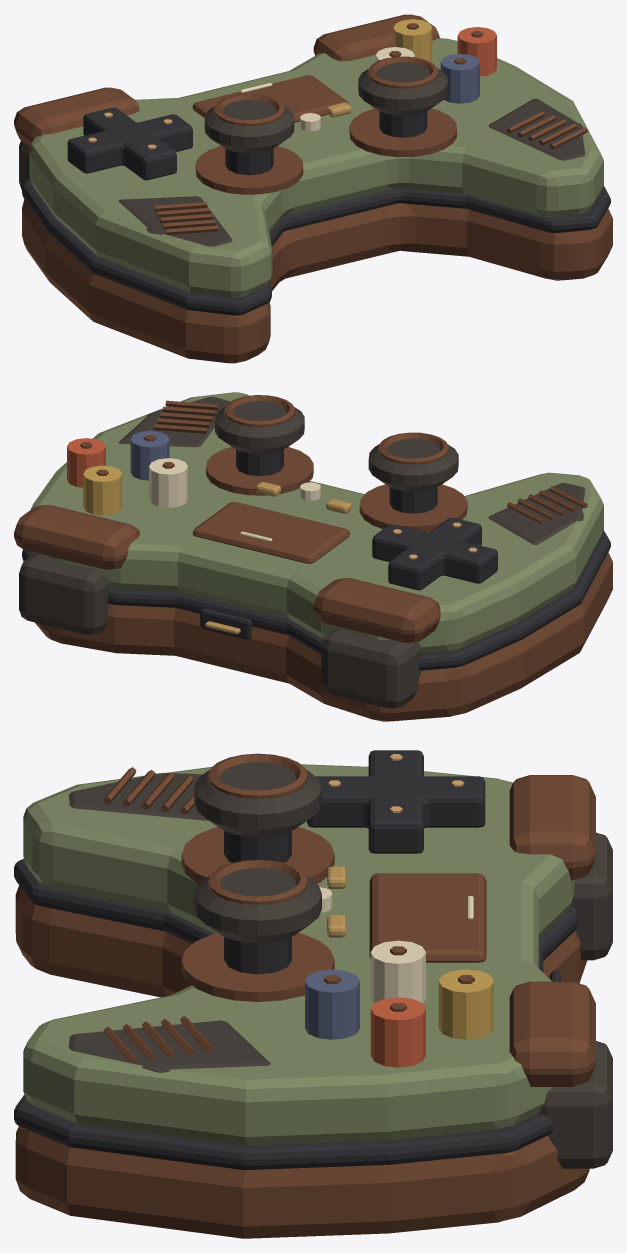
File: 012_game_controller_v01.glb
The picture shows the model from 3 angles, top to bottom: view 1: azimuth 30°, elevation 25°; view 2: azimuth 150°, elevation 25°; view 3: azimuth 270°, elevation 25°; orthographic projection. The views are drawn at different scales.
Parts seen in each view (by area): view 1: Sage controller top shell, Ergonomic lower controller shell, Controller shell gasket, Cross D pad, Shoulder bumper, Analogue stick thumb cap.001, Analogue stick thumb cap, Stick mounting well, Stick mounting well.001, Shoulder bumper.001, Central small touch panel, Rubber palm grip.001 (+8 smaller); view 2: Sage controller top shell, Ergonomic lower controller shell, Controller shell gasket, Lower trigger, Cross D pad, Lower trigger.001, Shoulder bumper, Shoulder bumper.001, Central small touch panel, Analogue stick thumb cap, Analogue stick thumb cap.001, Stick mounting well.001 (+12 smaller); view 3: Sage controller top shell, Ergonomic lower controller shell, Controller shell gasket, Cross D pad, Central small touch panel, Shoulder bumper.001, Shoulder bumper, Analogue stick thumb cap, Analogue stick thumb cap.001, Stick mounting well.001, Lower trigger.001, Rubber palm grip.001 (+11 smaller).
Boxes of the visible parts, x1,y1,x2,y2 form: Sage controller top shell: (29, 38, 603, 297); Ergonomic lower controller shell: (22, 199, 612, 363); Controller shell gasket: (22, 177, 610, 315); Cross D pad: (67, 107, 192, 180); Shoulder bumper: (14, 87, 139, 146); Analogue stick thumb cap.001: (358, 62, 447, 115); Analogue stick thumb cap: (204, 100, 294, 153); Stick mounting well: (195, 146, 303, 194); Stick mounting well.001: (349, 108, 456, 157); Shoulder bumper.001: (313, 14, 439, 61); Central small touch panel: (192, 75, 349, 122); Rubber palm grip.001: (488, 98, 585, 160); Sage controller top shell: (31, 392, 603, 653); Ergonomic lower controller shell: (35, 552, 612, 721); Controller shell gasket: (22, 530, 610, 670); Lower trigger: (321, 628, 422, 708); Cross D pad: (372, 517, 497, 590); Lower trigger.001: (19, 552, 111, 634); Shoulder bumper: (313, 578, 440, 642); Shoulder bumper.001: (14, 505, 139, 569); Central small touch panel: (192, 502, 350, 563); Analogue stick thumb cap: (368, 438, 458, 491); Analogue stick thumb cap.001: (215, 401, 304, 453); Stick mounting well.001: (206, 447, 313, 495); Sage controller top shell: (23, 764, 575, 1145); Ergonomic lower controller shell: (15, 885, 589, 1238); Controller shell gasket: (14, 859, 578, 1170); Cross D pad: (307, 750, 485, 853); Central small touch panel: (369, 873, 486, 962); Shoulder bumper.001: (509, 981, 595, 1086); Shoulder bumper: (509, 775, 595, 880); Analogue stick thumb cap: (194, 762, 321, 837); Analogue stick thumb cap.001: (194, 868, 321, 943); Stick mounting well.001: (181, 933, 334, 1001); Lower trigger.001: (538, 1041, 612, 1168); Rubber palm grip.001: (68, 1020, 270, 1072).
Bounding box in the file's own units: 0.38 × 0.1289 × 0.2819.
